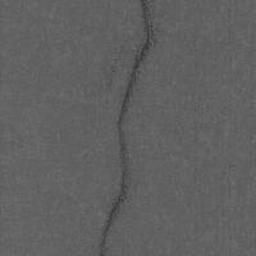Inclusion: (98, 0, 159, 256)
